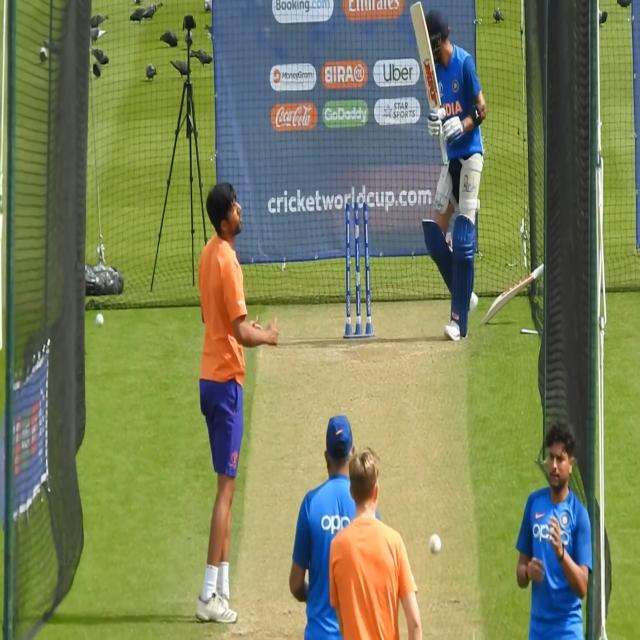ball: (427, 530, 444, 561), (95, 311, 105, 331)
stump: (344, 199, 374, 339)
